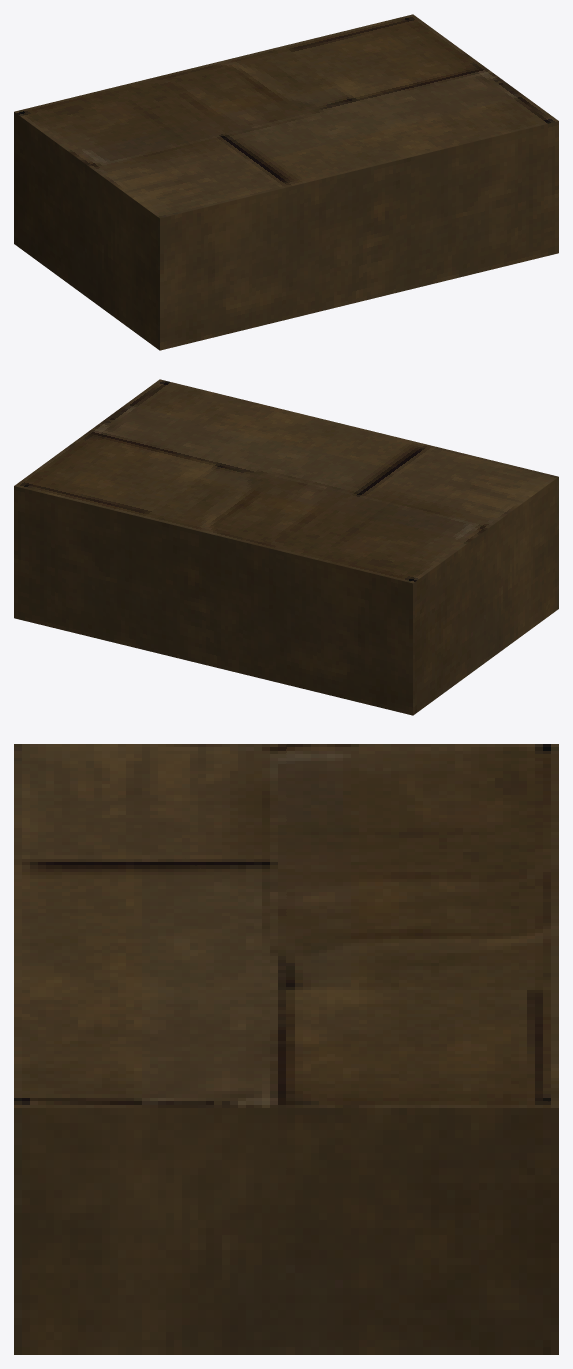
Rendered from cardboard_box_2.glb.
3 views of the same model, one above another, from view 1: azimuth 30°, elevation 25°; view 2: azimuth 150°, elevation 25°; view 3: azimuth 270°, elevation 25° (orthographic). The views are drawn at different scales.
Parts seen in each view (by area): view 1: cardboard_box_2; view 2: cardboard_box_2; view 3: cardboard_box_2.
Part boxes in pixels (box(x1,y1,x2,y2)): cardboard_box_2: box(14, 14, 558, 350); cardboard_box_2: box(14, 379, 558, 715); cardboard_box_2: box(14, 744, 558, 1354).
Bounding box in the file's own units: 0.395 × 0.125 × 0.25.
1 material, 1 textured.
